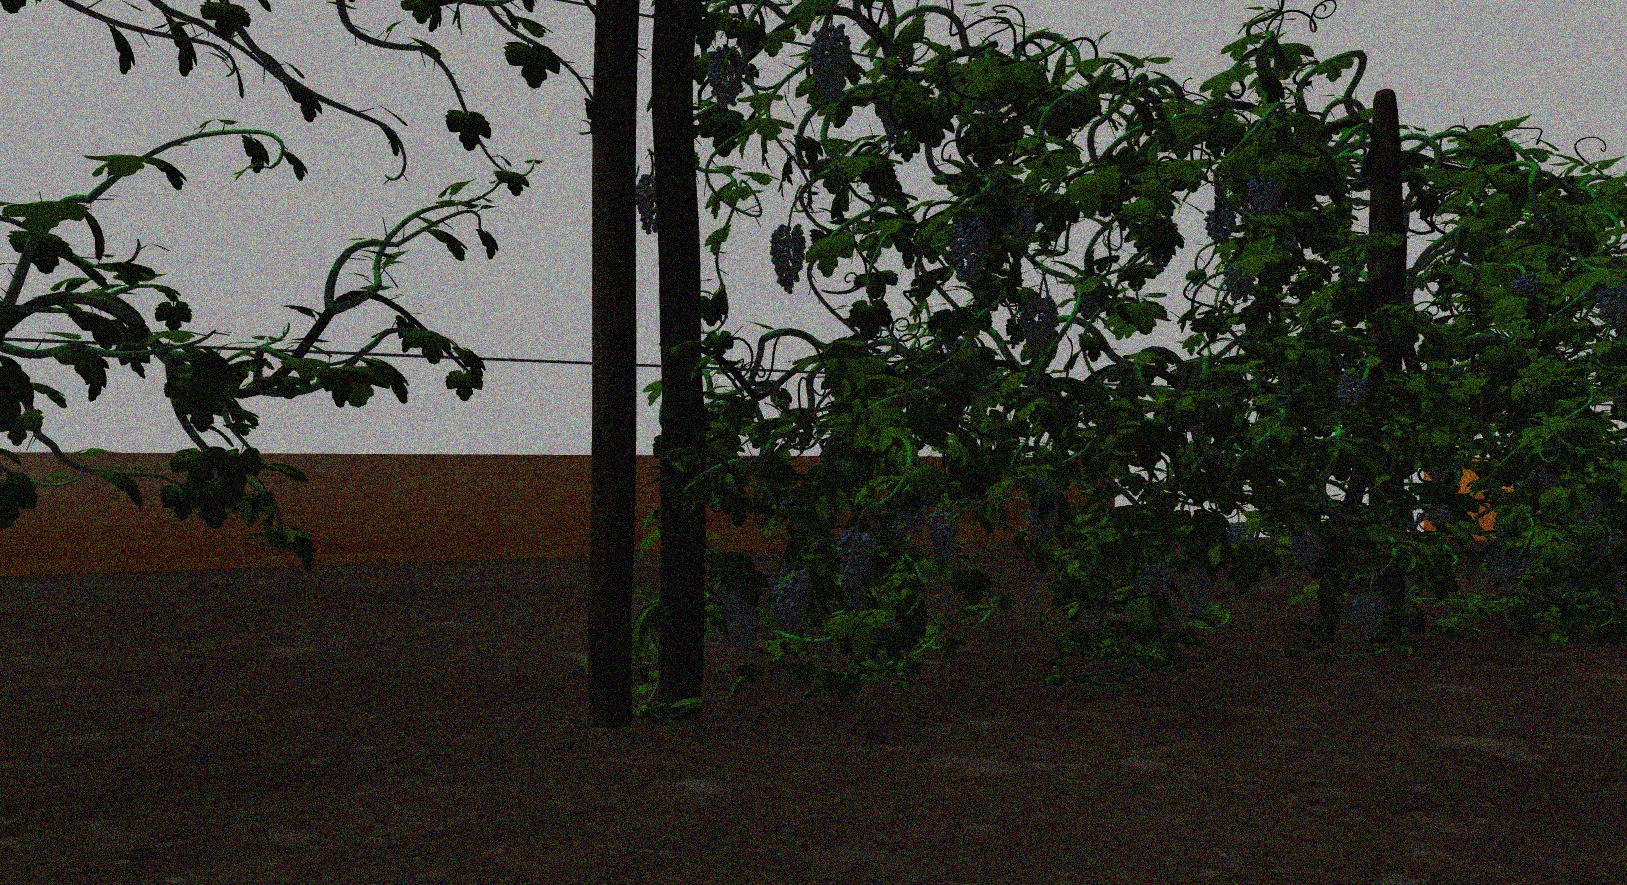grape: (809, 22, 852, 100), (769, 222, 809, 292), (723, 587, 762, 657), (951, 217, 988, 284), (705, 48, 743, 112), (774, 570, 811, 635), (1022, 295, 1060, 354), (1025, 480, 1060, 544), (838, 530, 876, 587), (1349, 592, 1391, 643), (1182, 566, 1213, 620), (928, 512, 960, 563), (1289, 528, 1324, 573), (1244, 173, 1280, 217), (634, 175, 660, 234), (1138, 559, 1175, 597), (1203, 204, 1239, 242), (1333, 375, 1371, 410), (1596, 288, 1626, 331), (1484, 548, 1513, 591), (1224, 262, 1254, 301), (1511, 270, 1541, 298), (1426, 502, 1453, 524)
